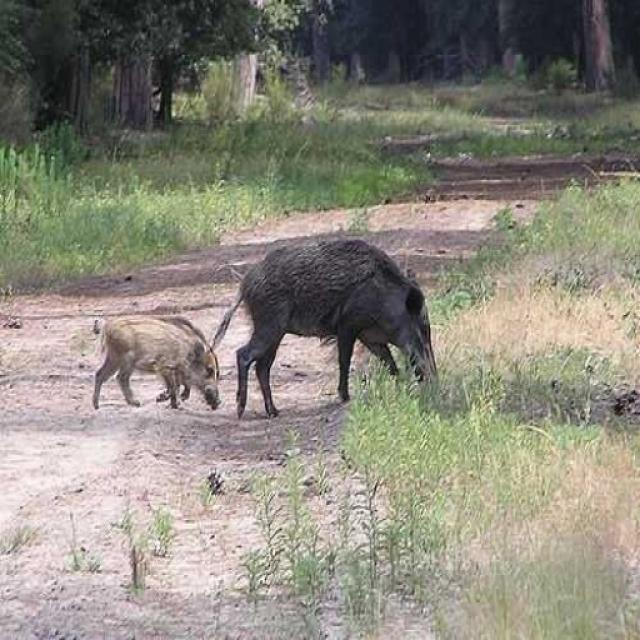pig: (231, 211, 456, 425), (93, 288, 234, 414)
